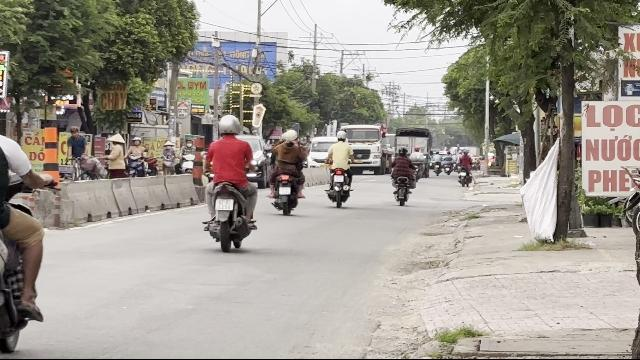helmet: (217, 114, 241, 136)
licenseplate: (215, 200, 232, 210)
motorcyclist: (199, 114, 259, 250)
